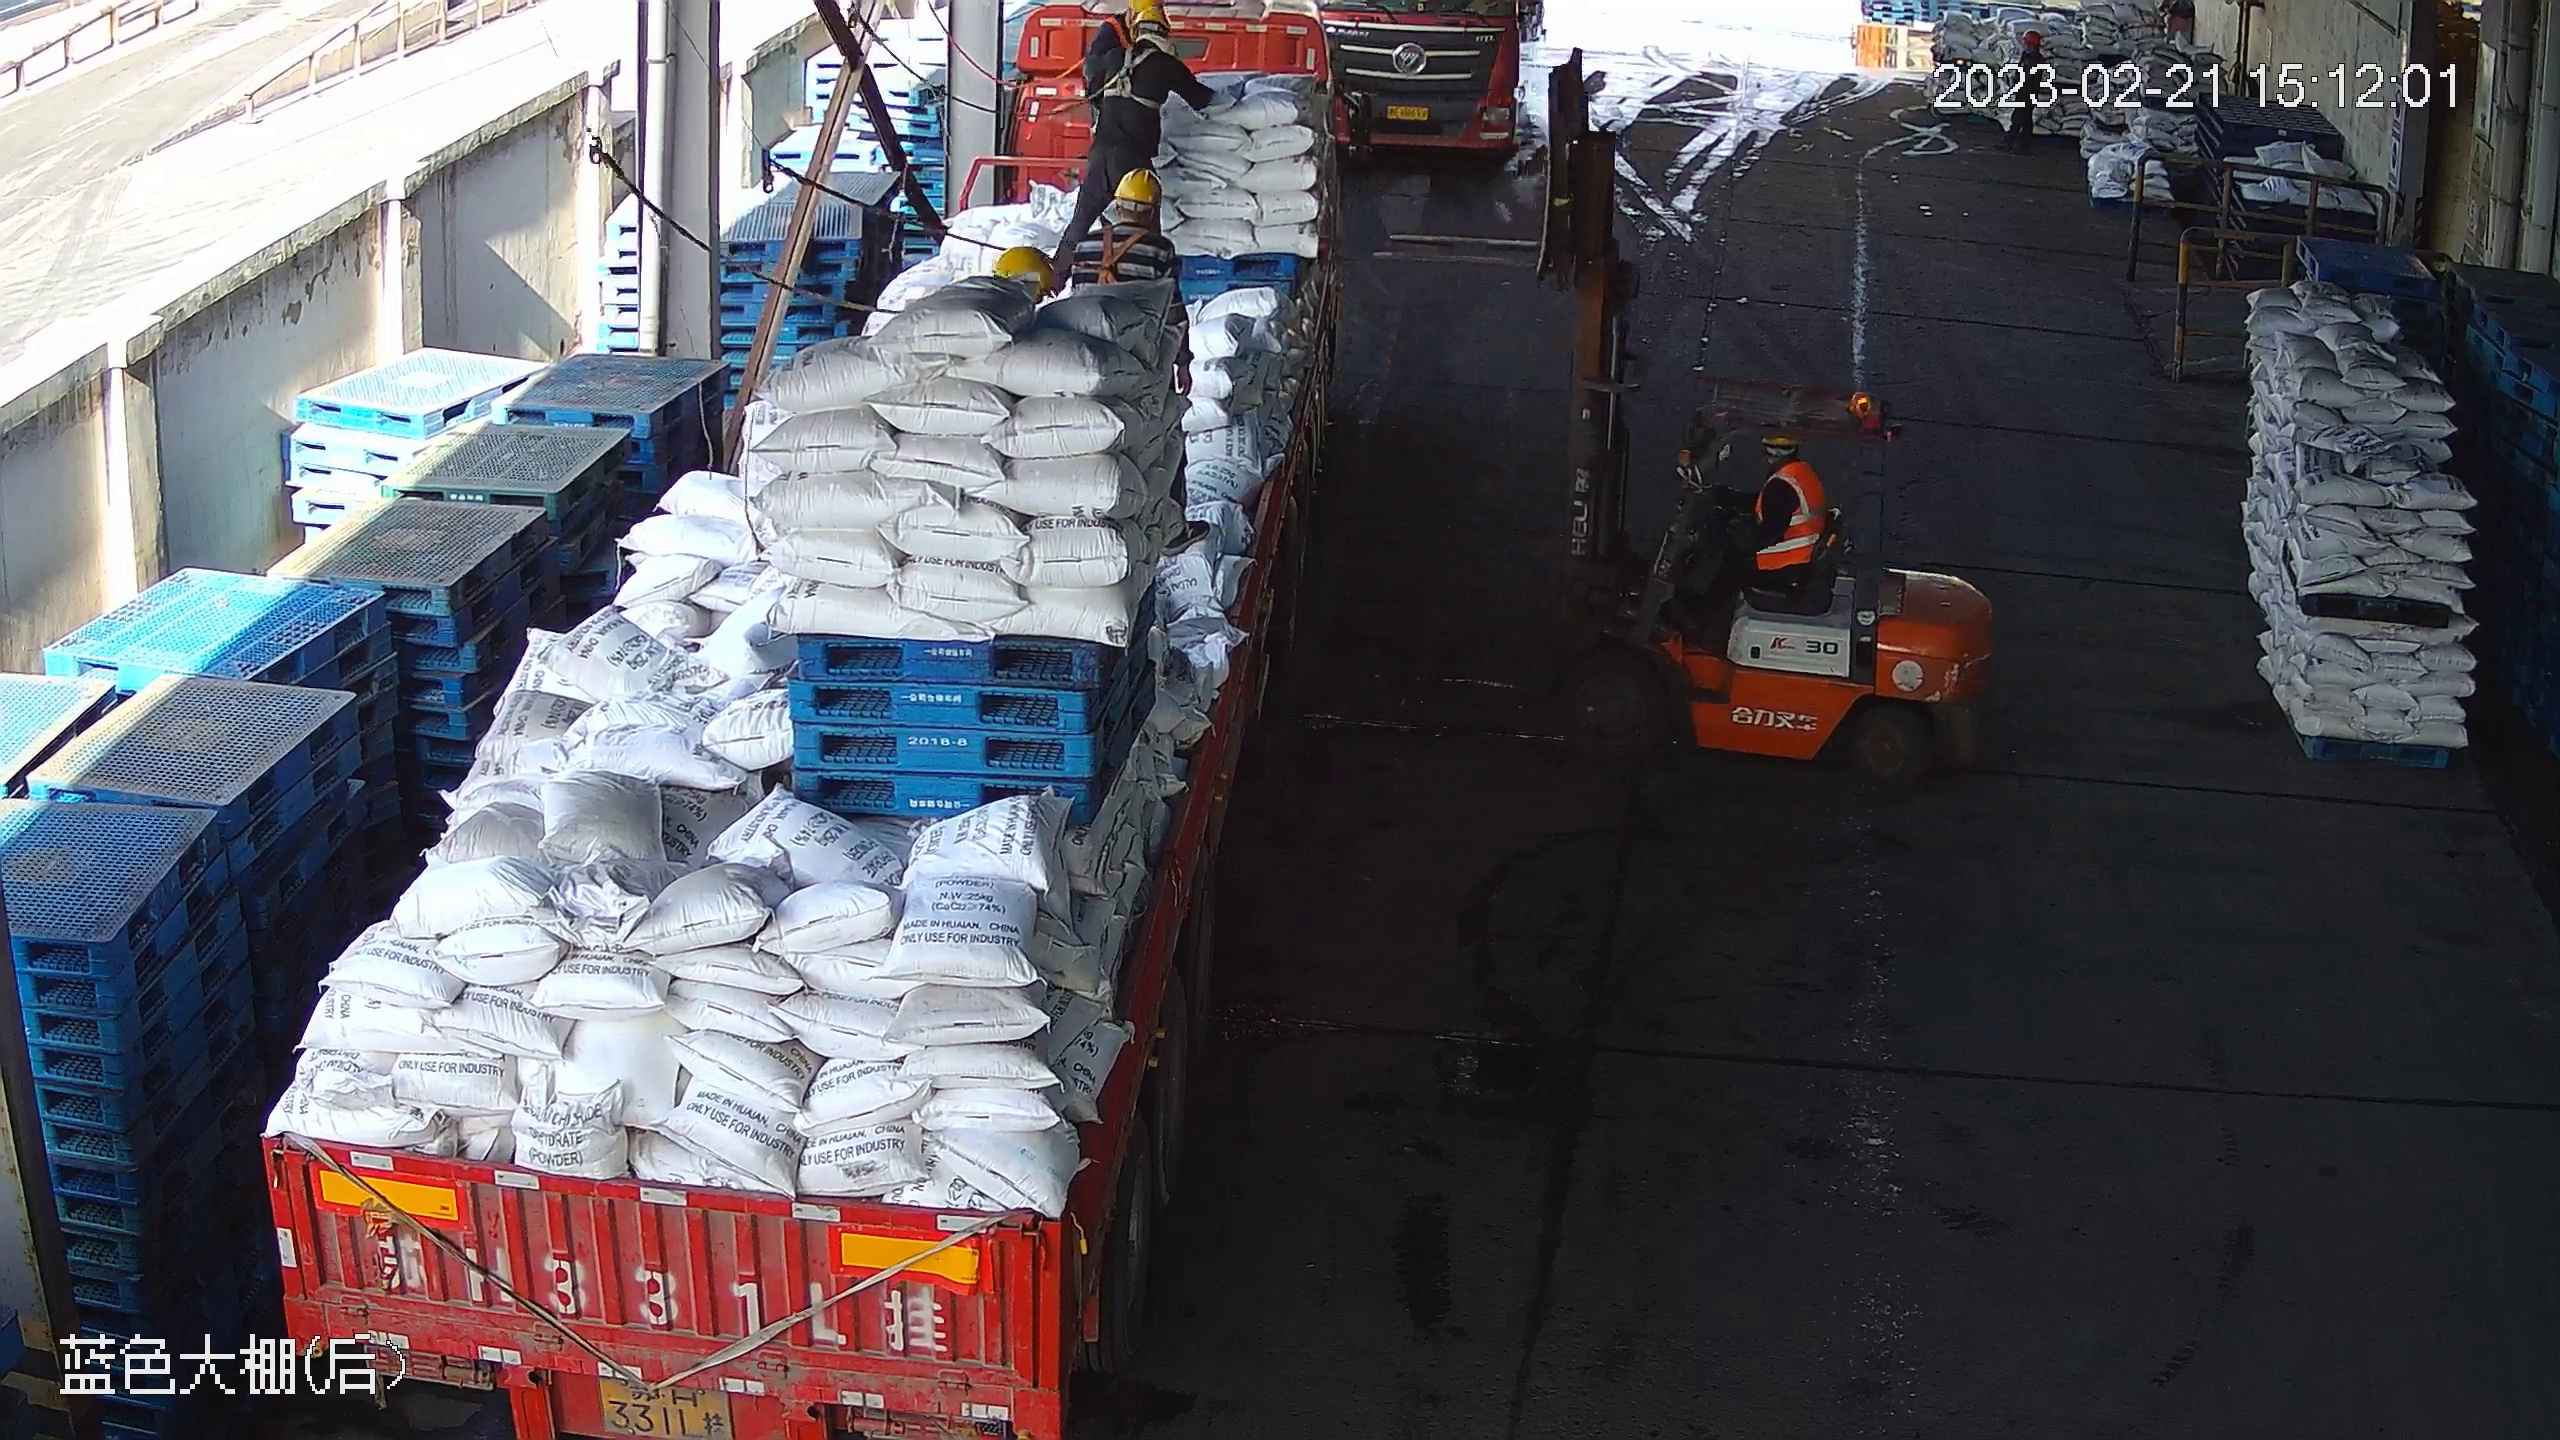belt: (1101, 48, 1164, 111), (1093, 226, 1149, 286)
head: (1071, 166, 1176, 268), (1099, 8, 1177, 81)
helmet: (994, 246, 1062, 296), (1113, 167, 1163, 203), (1131, 7, 1171, 31), (1130, 1, 1158, 11)
people: (1050, 6, 1218, 291), (1687, 433, 1828, 625)
truck: (256, 1, 1374, 1440)
